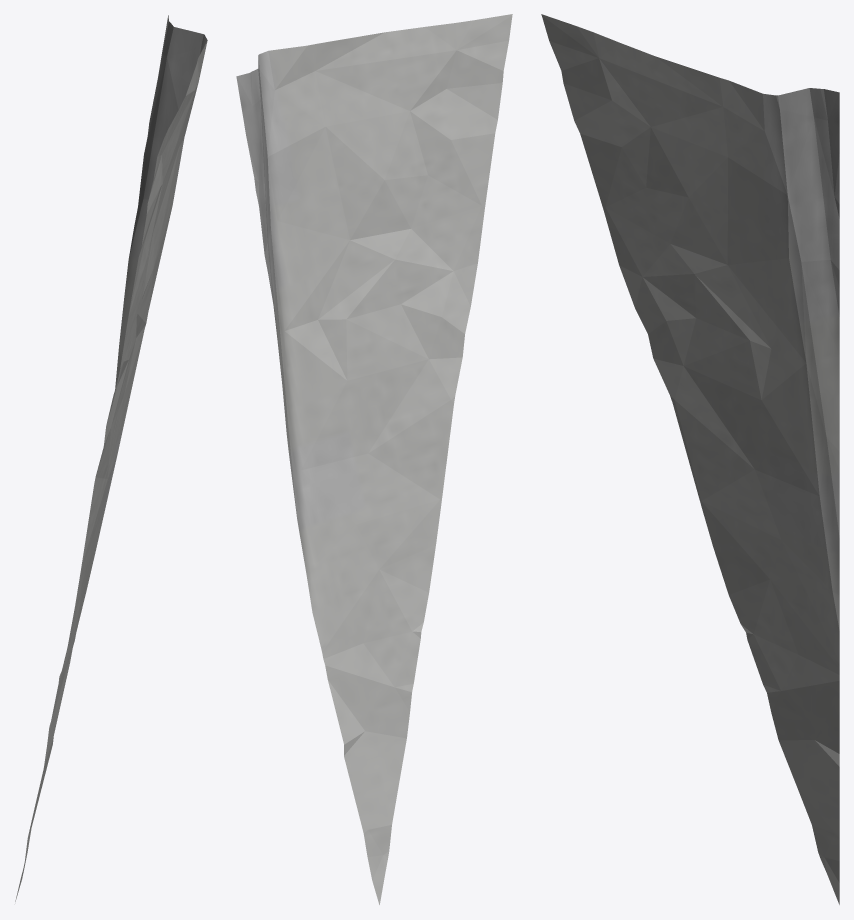
The picture shows the model from 3 angles, left to right: view 1: azimuth 30°, elevation 25°; view 2: azimuth 150°, elevation 25°; view 3: azimuth 270°, elevation 25°; orthographic projection. The views are drawn at different scales.
Bounding box in the file's own units: 0.1068 × 0.5454 × 0.1655.
Materials: 1 (1 with a texture image).
